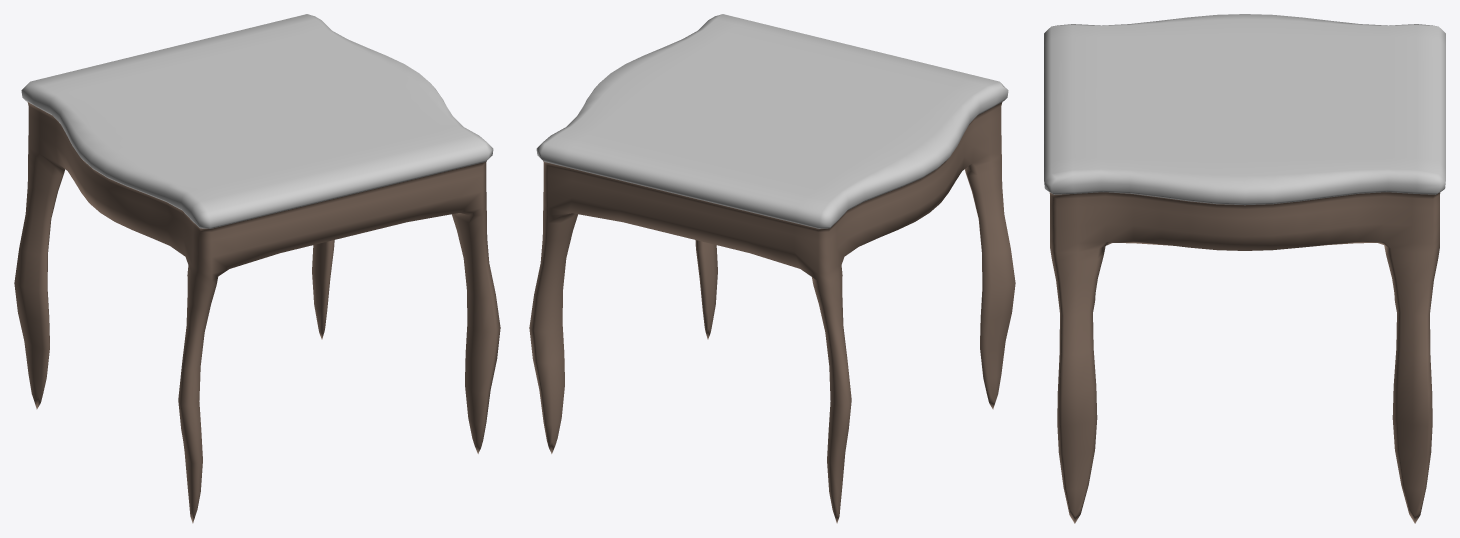
File: End_Table.fbx
The picture shows the model from 3 angles, left to right: view 1: azimuth 30°, elevation 25°; view 2: azimuth 150°, elevation 25°; view 3: azimuth 270°, elevation 25°; orthographic projection. The views are drawn at different scales.
Parts seen in each view (by area): view 1: End_Table; view 2: End_Table; view 3: End_Table.
Boxes of the visible parts, left/top/right/bottom form: End_Table: left=14, top=14, right=500, bottom=523; End_Table: left=529, top=14, right=1015, bottom=523; End_Table: left=1044, top=14, right=1445, bottom=523.
Size of the model in its own units: 40.82 by 37.57 by 39.03.
